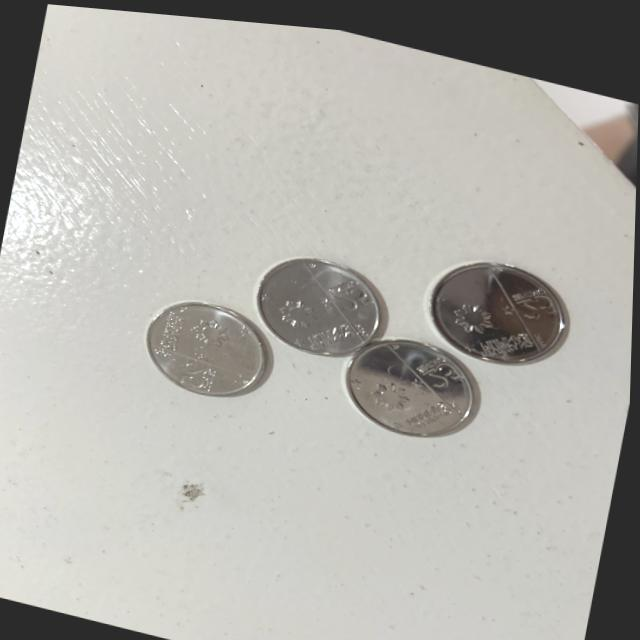25Cent_New_Front: (411, 337, 470, 393), (504, 267, 562, 318), (171, 349, 228, 393), (324, 265, 374, 314)
